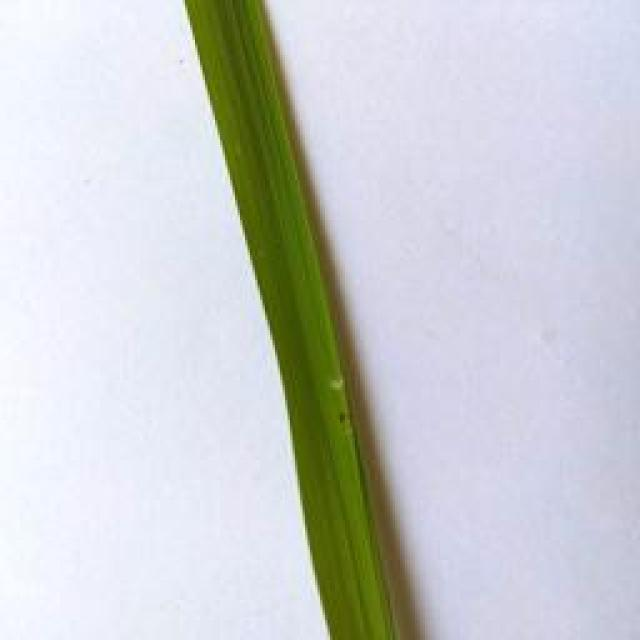Brown_Spot: (331, 407, 352, 429)
